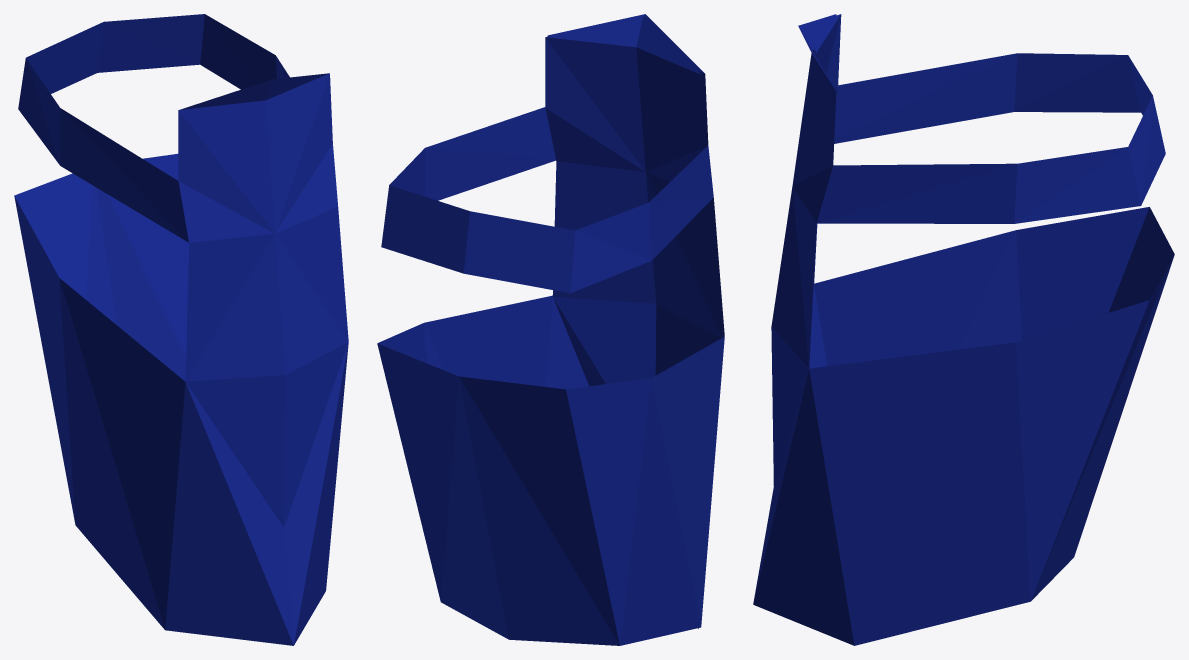
Rendered from ShinArmor1.obj.
The picture shows the model from 3 angles, left to right: view 1: azimuth 30°, elevation 25°; view 2: azimuth 150°, elevation 25°; view 3: azimuth 270°, elevation 25°; orthographic projection. The views are drawn at different scales.
Parts seen in each view (by area): view 1: ShinArmor1_Cube.001; view 2: ShinArmor1_Cube.001; view 3: ShinArmor1_Cube.001.
Boxes of the visible parts, x1=… form: ShinArmor1_Cube.001: x1=14, y1=14, x2=348, y2=645; ShinArmor1_Cube.001: x1=377, y1=14, x2=724, y2=645; ShinArmor1_Cube.001: x1=753, y1=14, x2=1174, y2=645.
Size of the model in its own units: 0.136 by 0.3274 by 0.2162.
